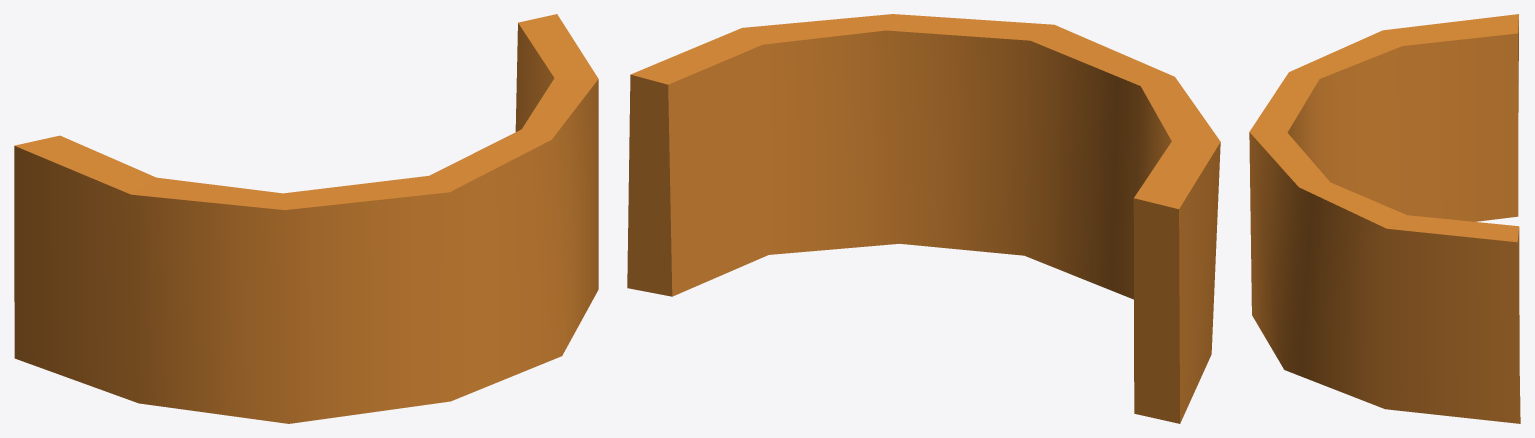
Rendered from mudBrickKilnSection_low.glb.
3 renders of one model, left to right at view 1: azimuth 30°, elevation 25°; view 2: azimuth 150°, elevation 25°; view 3: azimuth 270°, elevation 25°, orthographic. The views are drawn at different scales.
Parts seen in each view (by area): view 1: Cube; view 2: Cube; view 3: Cube.
Boxes of the visible parts, <box> form: Cube: <box>14,14,598,423</box>; Cube: <box>627,14,1220,423</box>; Cube: <box>1249,14,1520,423</box>.
Size of the model in its own units: 1.96 by 0.7329 by 0.9799.
